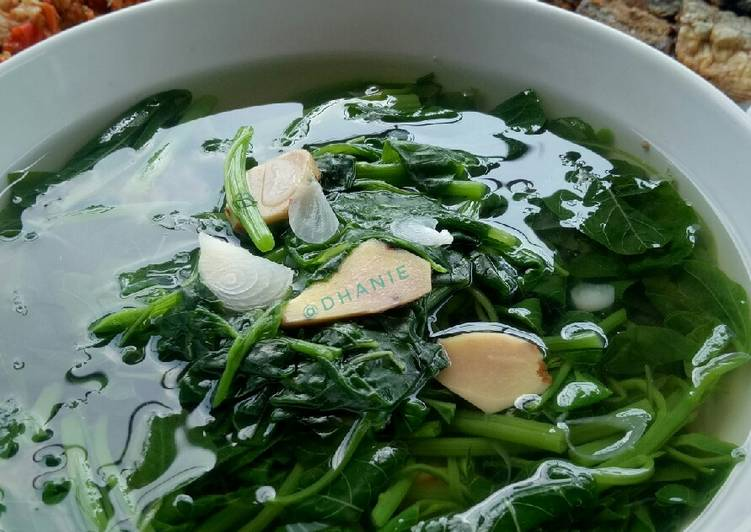Sayur Bayam: (53, 84, 686, 527)
